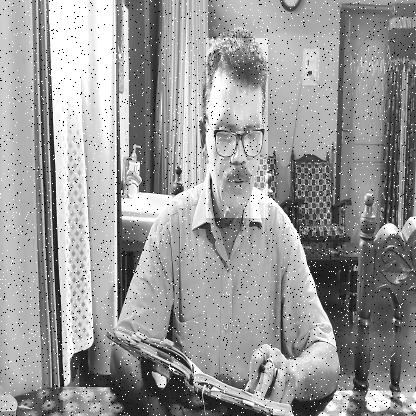Normal: (206, 38, 268, 218)
